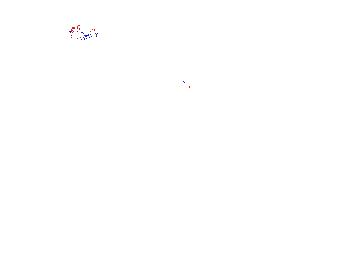X-ray fish: (26, 131, 66, 169)
red belly glassfish: (170, 72, 193, 100), (66, 22, 97, 41)
